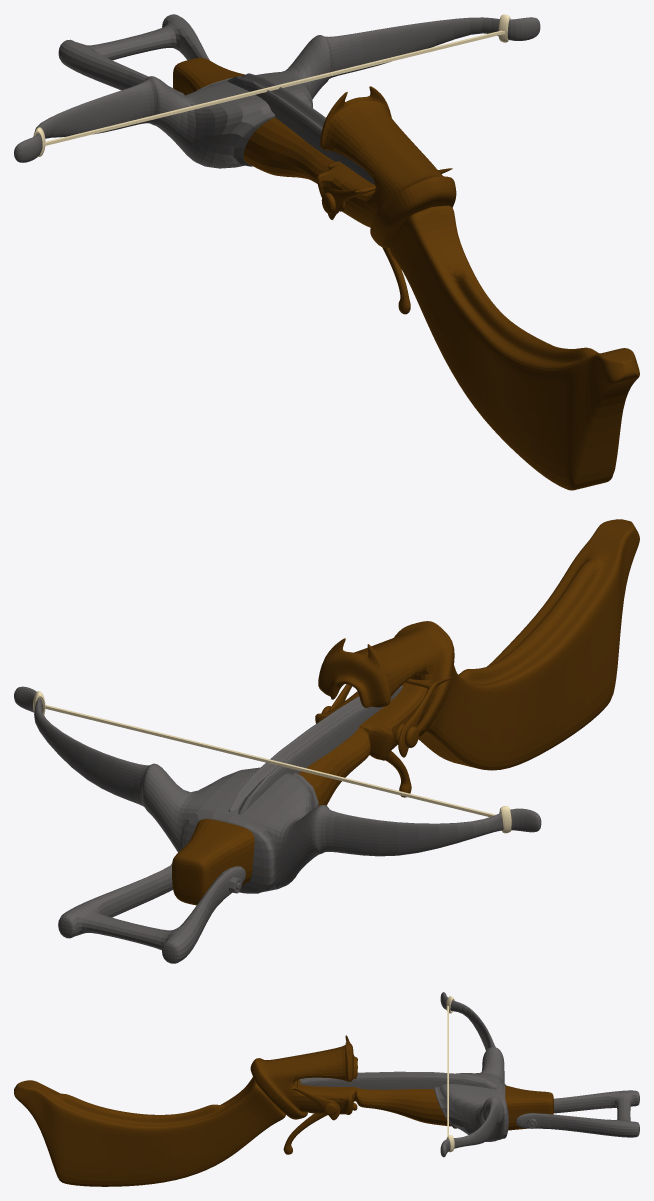
File: Ballesta.fbx
3 renders of one model, top to bottom at view 1: azimuth 30°, elevation 25°; view 2: azimuth 150°, elevation 25°; view 3: azimuth 270°, elevation 25°, orthographic. The views are drawn at different scales.
Parts seen in each view (by area): view 1: Cube.002, Cube.003, Cube.001, Cube, Cube.004, Cylinder.002; view 2: Cube.002, Cube.003, Cube.001, Cube, Cube.004, Cylinder.002; view 3: Cube.002, Cube.003, Cube.001, Cube, Cylinder.002.
Boxes of the visible parts, left/top/right/bottom form: Cube.002: left=173, top=57, right=639, bottom=490; Cube.003: left=14, top=17, right=540, bottom=168; Cube.001: left=58, top=14, right=209, bottom=95; Cube: left=227, top=73, right=374, bottom=184; Cube.004: left=44, top=30, right=504, bottom=145; Cylinder.002: left=321, top=168, right=452, bottom=314; Cube.002: left=172, top=519, right=639, bottom=905; Cube.003: left=14, top=686, right=541, bottom=893; Cube.001: left=58, top=865, right=245, bottom=963; Cube: left=228, top=685, right=402, bottom=814; Cube.004: left=45, top=704, right=495, bottom=816; Cylinder.002: left=321, top=677, right=451, bottom=797; Cube.002: left=14, top=1035, right=553, bottom=1186; Cube.003: left=434, top=992, right=508, bottom=1157; Cube.001: left=515, top=1090, right=639, bottom=1137; Cube: left=299, top=1071, right=496, bottom=1089; Cylinder.002: left=283, top=1079, right=357, bottom=1154.
Bounding box in the file's own units: 4.51 × 1.93 × 7.61.
